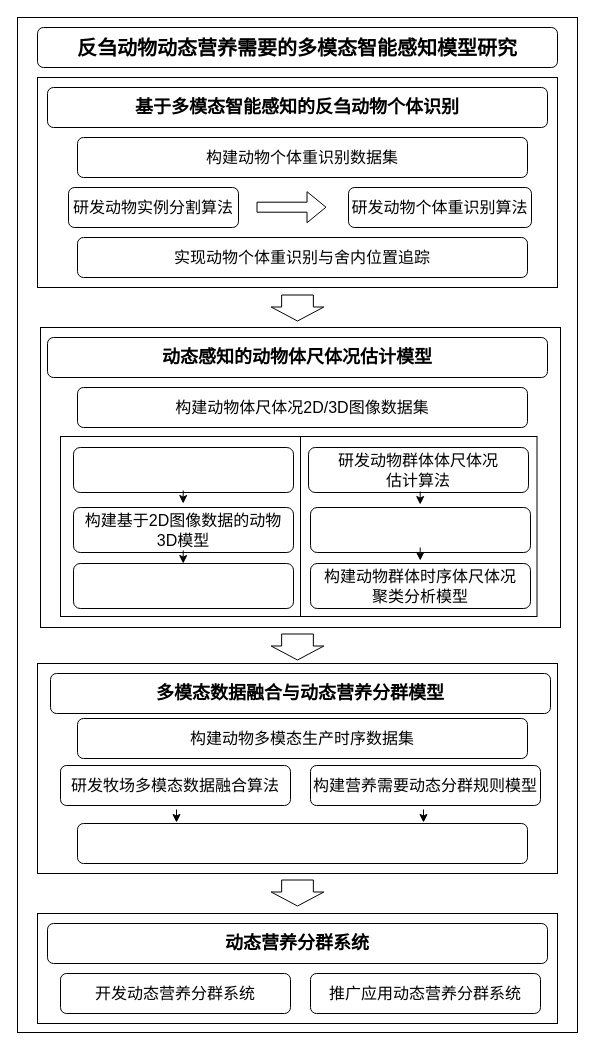
The diagram is 595 pixels wide and 1050 high, and some of its shapes have lost their labels. The box of each missing label's shape, as (x1, y1, x2, y2) in pixels:
构建动态营养分群模型: (76, 822, 528, 864)
构建动物3D模型/Mesh模型: (72, 562, 294, 608)
构建动物群体体尺体况特征 抽取模型: (310, 506, 530, 552)
研发动物个体体尺体况 估计算法: (72, 446, 294, 492)
